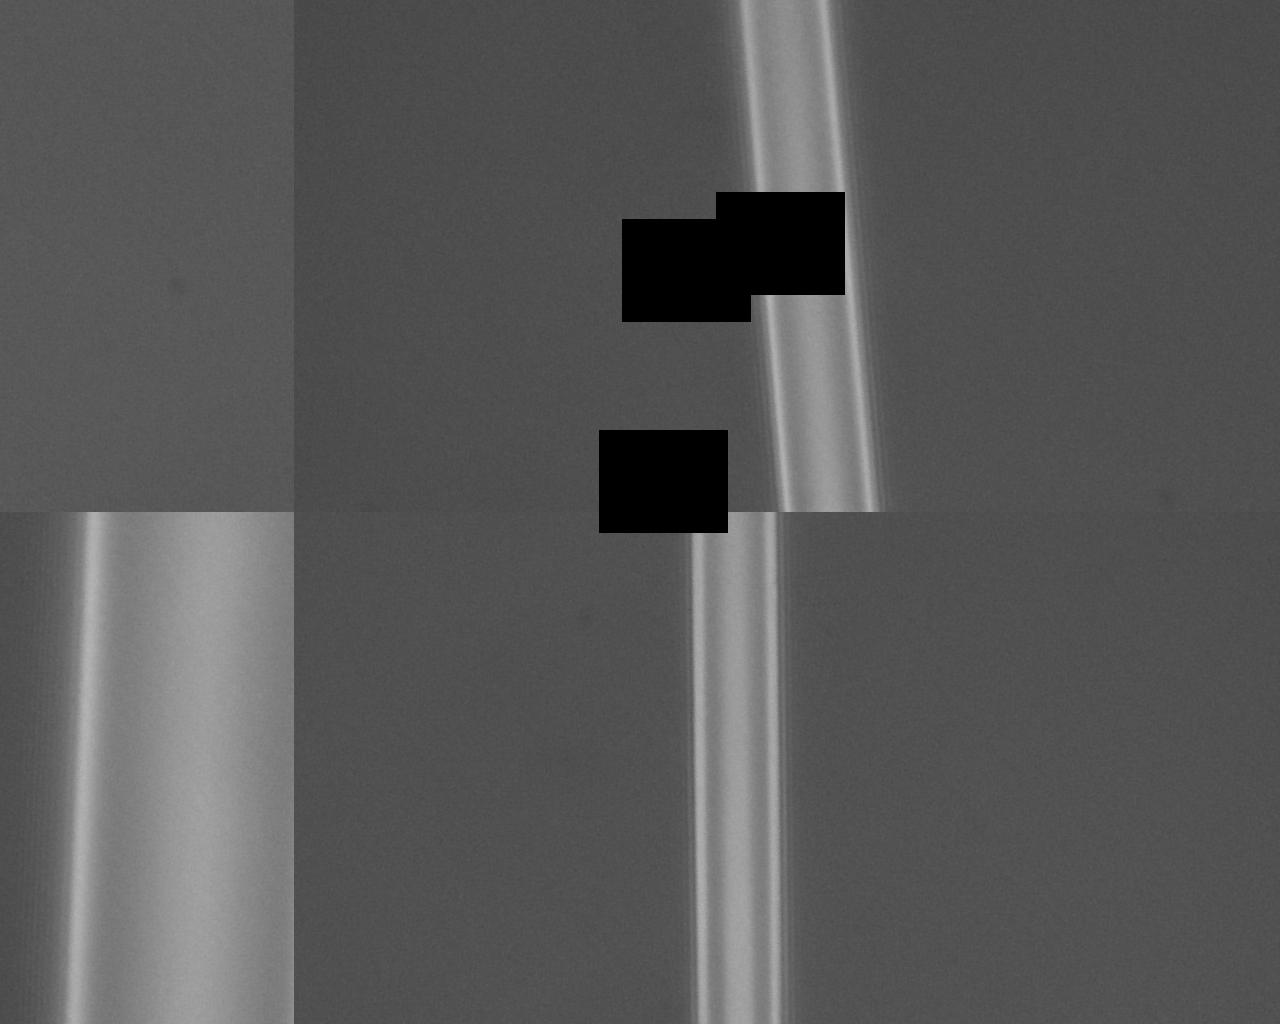fiber: (974, 0, 1118, 675), (498, 0, 601, 675), (601, 675, 790, 1024), (158, 675, 227, 1024)
